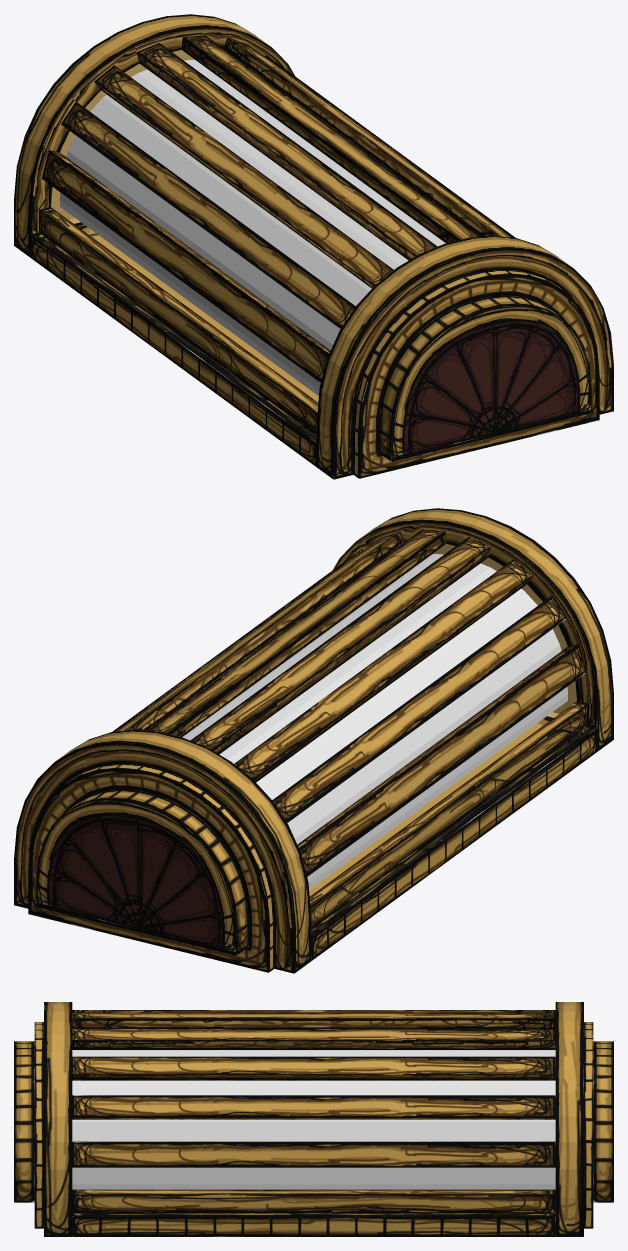
The model's file is lamp.fbx.
The picture shows the model from 3 angles, top to bottom: view 1: azimuth 30°, elevation 25°; view 2: azimuth 150°, elevation 25°; view 3: azimuth 270°, elevation 25°; orthographic projection. The views are drawn at different scales.
Visible parts, largest first — view 1: Plane, Plane.001; view 2: Plane, Plane.001; view 3: Plane, Plane.001.
Part boxes in pixels (left/top/right/bottom): Plane: left=14, top=14, right=613, bottom=479; Plane.001: left=60, top=60, right=445, bottom=395; Plane: left=14, top=508, right=613, bottom=973; Plane.001: left=182, top=554, right=567, bottom=889; Plane: left=14, top=1002, right=613, bottom=1236; Plane.001: left=72, top=1050, right=555, bottom=1189.
Size of the model in its own units: 200 by 131 by 439.
